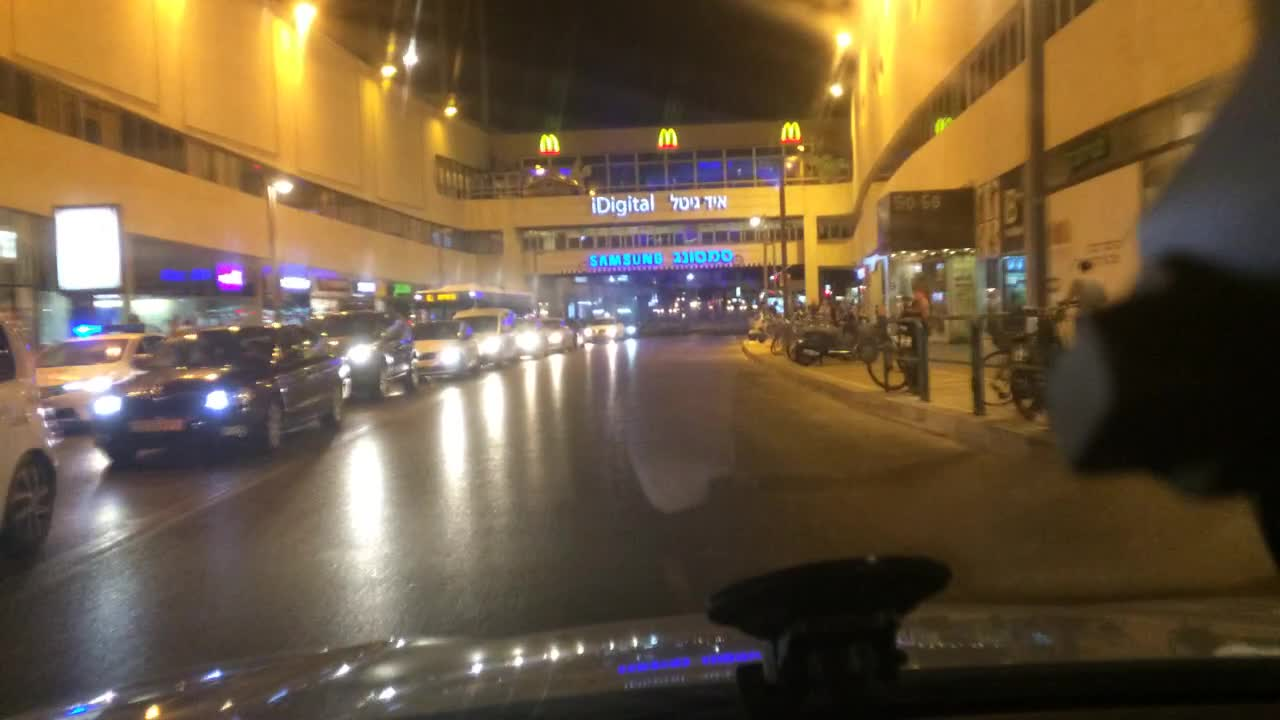bike: (968, 301, 1070, 419), (853, 313, 922, 392), (786, 318, 879, 365), (762, 316, 802, 358)
car: (89, 322, 351, 466), (0, 316, 58, 567), (28, 332, 169, 434), (311, 308, 423, 398), (455, 308, 524, 366), (410, 321, 479, 377), (536, 315, 575, 354), (512, 317, 548, 358), (581, 318, 619, 342), (621, 318, 638, 336)
rider: (1051, 257, 1109, 335), (901, 285, 933, 341), (813, 291, 838, 320), (764, 297, 778, 315)
